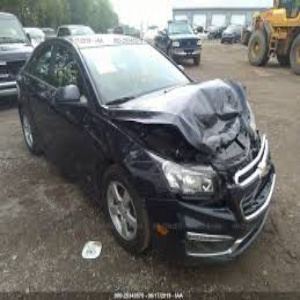bonnet: (160, 77, 257, 150)
